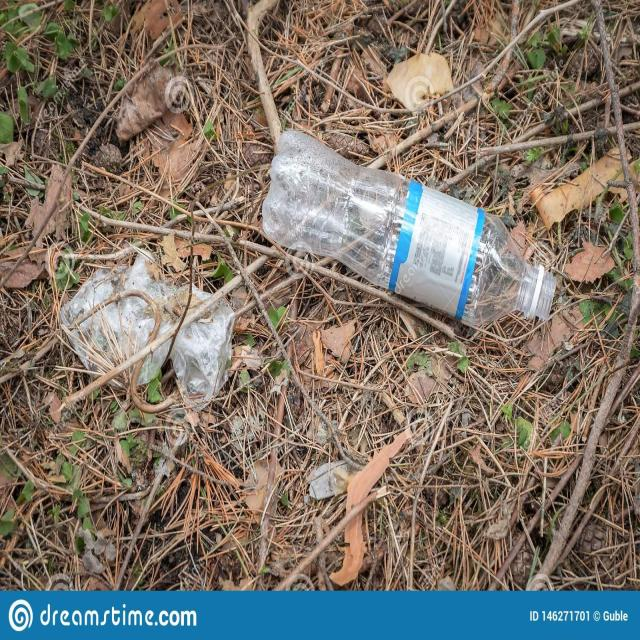bottle: (262, 116, 568, 346)
